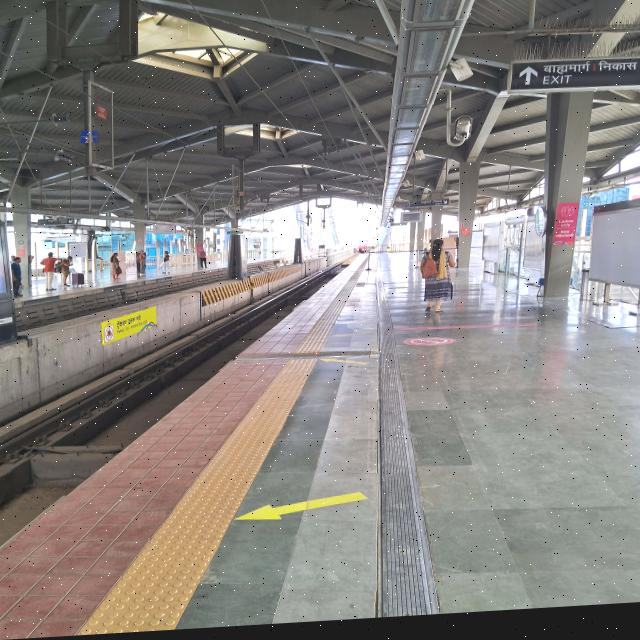train: (356, 242, 370, 257)
